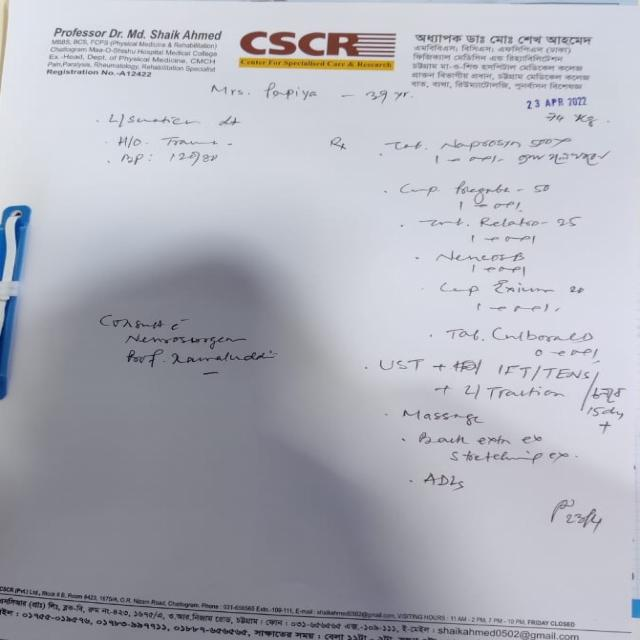Calboral D: (489, 315, 601, 348)
Exium: (485, 276, 560, 301)
Naprosyn: (431, 132, 527, 155)
Neucos B: (429, 241, 533, 267)
Pregaba: (440, 176, 518, 204)
Relatro: (477, 213, 546, 233)
